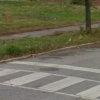Crosswalk: (8, 55, 100, 100)
